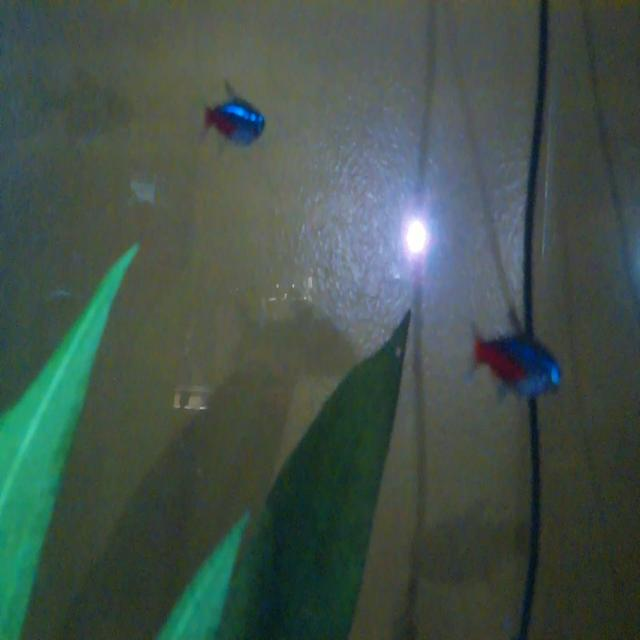fish: (461, 295, 568, 410), (194, 89, 271, 154)
